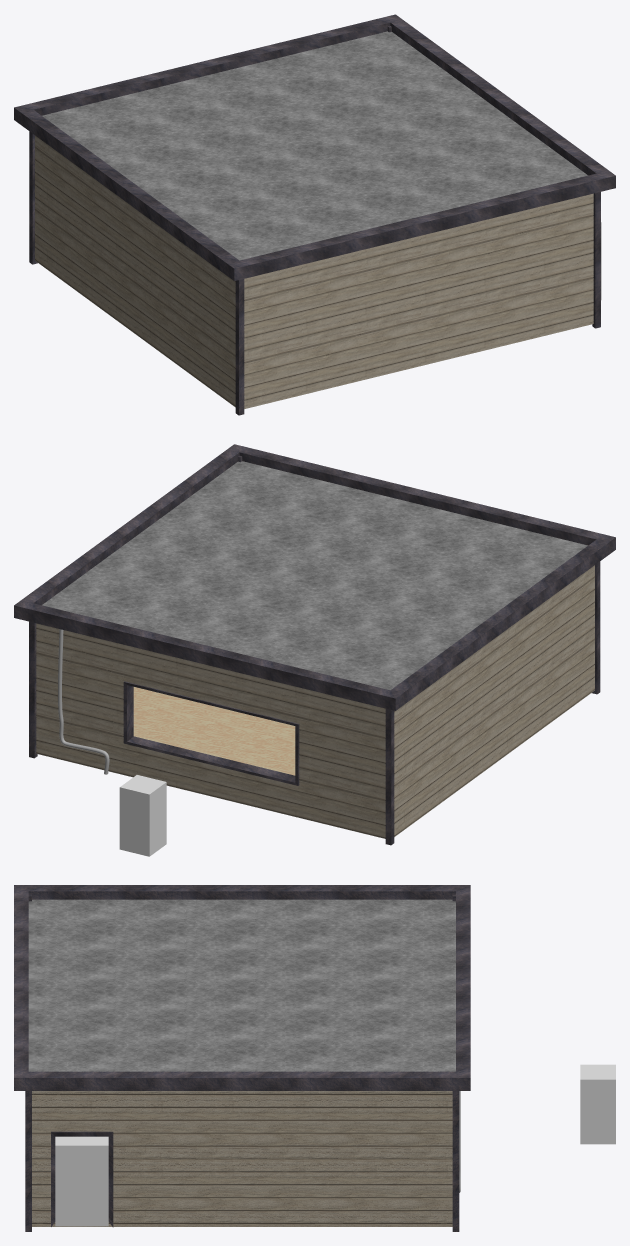
The model's file is guardhouse.glb.
3 renders of one model, top to bottom at view 1: azimuth 30°, elevation 25°; view 2: azimuth 150°, elevation 25°; view 3: azimuth 270°, elevation 25°, orthographic. The views are drawn at different scales.
Visible parts, largest first — view 1: HouseTemp; view 2: HouseTemp, Ref -noimp, BézierCurve.001; view 3: HouseTemp, DoorCut -noimp, Ref -noimp.
Part boxes in pixels (bbox=[...]): HouseTemp: bbox=[14, 14, 615, 415]; HouseTemp: bbox=[14, 444, 615, 845]; Ref -noimp: bbox=[119, 775, 166, 856]; BézierCurve.001: bbox=[58, 629, 109, 774]; HouseTemp: bbox=[14, 885, 470, 1231]; DoorCut -noimp: bbox=[55, 1136, 108, 1226]; Ref -noimp: bbox=[580, 1064, 615, 1144].
Size of the model in its own units: 13.01 by 4.92 by 16.91.
Materials: 9 (8 with a texture image).
